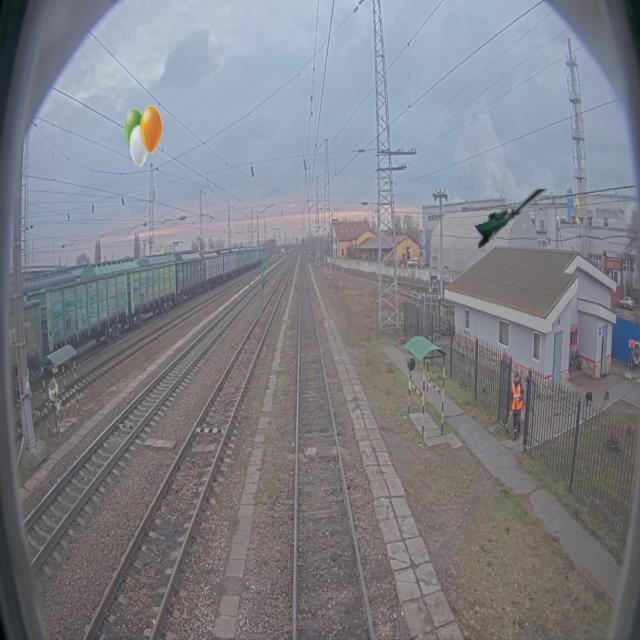balloon: (124, 105, 162, 169)
floating object: (473, 185, 550, 249), (259, 255, 266, 319)
